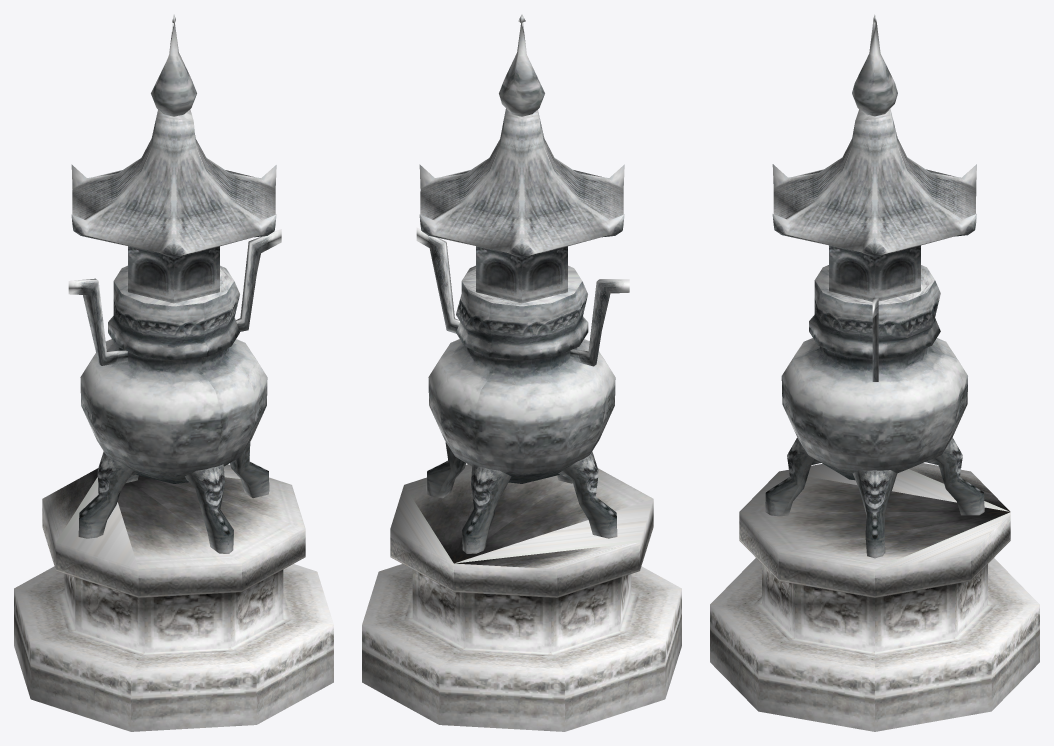
Rendered from snow_brazier-lod-01.glb.
3 renders of one model, left to right at view 1: azimuth 30°, elevation 25°; view 2: azimuth 150°, elevation 25°; view 3: azimuth 270°, elevation 25°, orthographic.
Visible parts, largest first — view 1: snow_brazier_02, snow_brazier_01; view 2: snow_brazier_02, snow_brazier_01; view 3: snow_brazier_02, snow_brazier_01.
Part boxes in pixels (x1,y1,x2,y2): snow_brazier_02: [14, 14, 333, 731]; snow_brazier_01: [68, 229, 281, 483]; snow_brazier_02: [362, 14, 681, 731]; snow_brazier_01: [416, 227, 629, 483]; snow_brazier_02: [710, 14, 1039, 731]; snow_brazier_01: [781, 265, 967, 480].
Size of the model in its own units: 4.48 by 9.71 by 4.48.
Materials: 2 (2 with a texture image).
